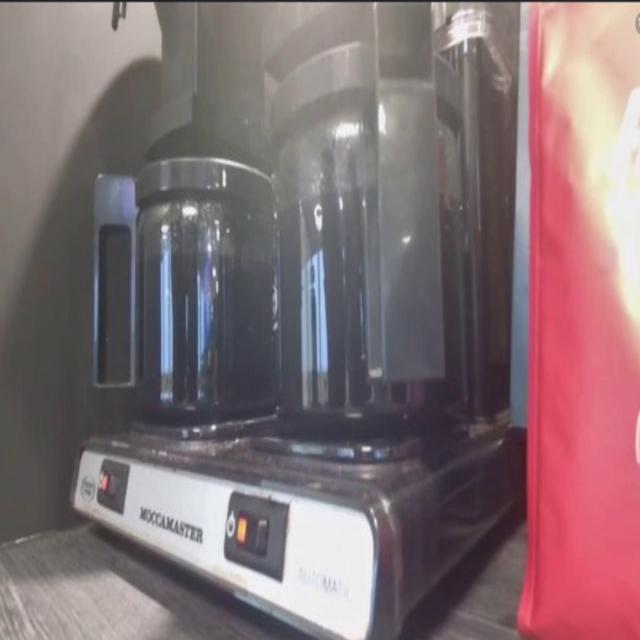coffee: (267, 25, 474, 453), (130, 148, 283, 429)
